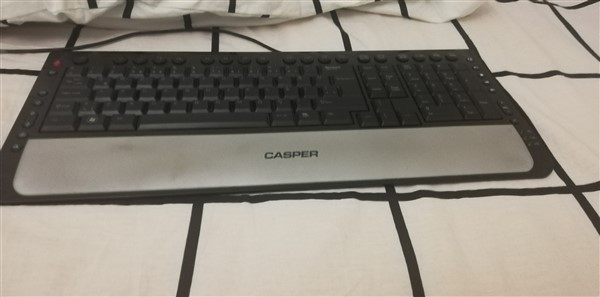klavye: (3, 48, 554, 180)
